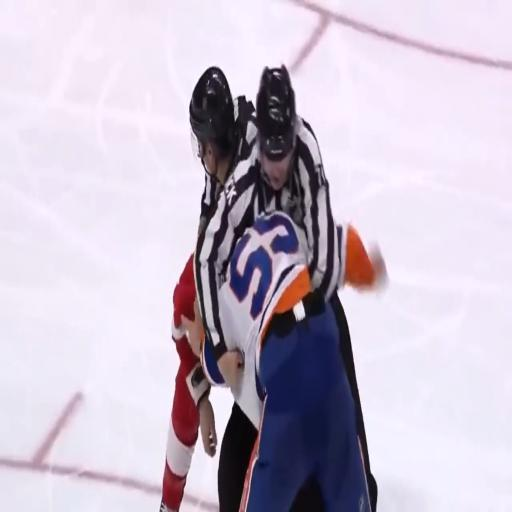violencia: (159, 47, 392, 512)
